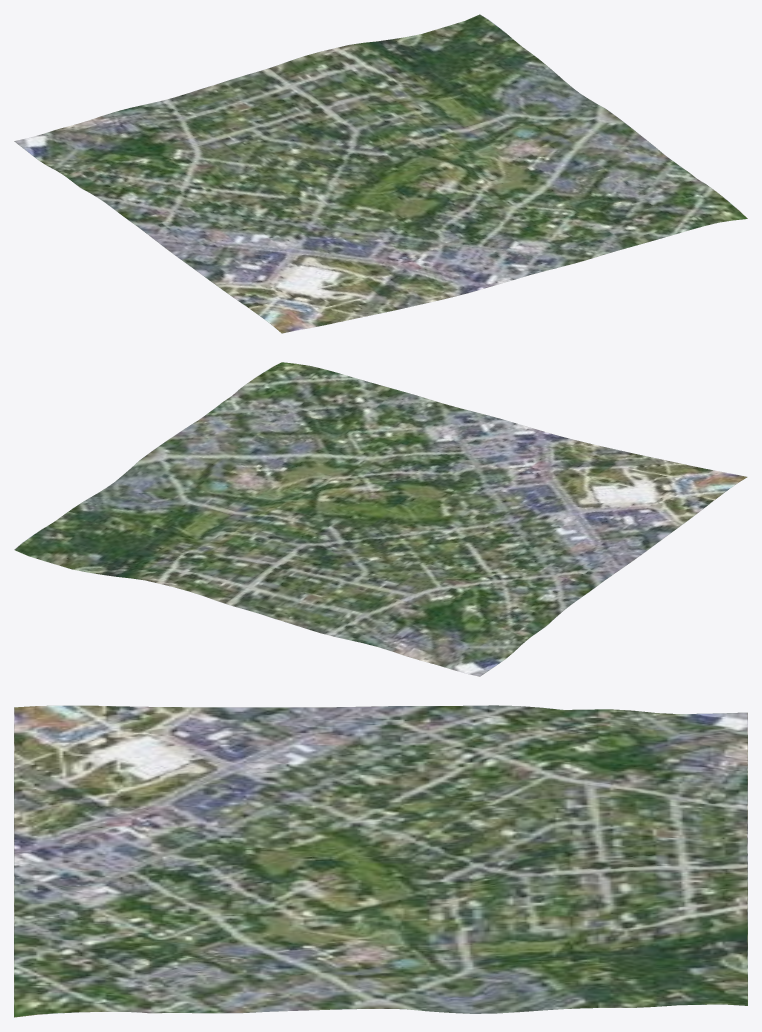
3 views of the same model, one above another, from view 1: azimuth 30°, elevation 25°; view 2: azimuth 150°, elevation 25°; view 3: azimuth 270°, elevation 25° (orthographic). The views are drawn at different scales.
Size of the model in its own units: 975 by 32.6 by 971.
Materials: 1 (1 with a texture image).
